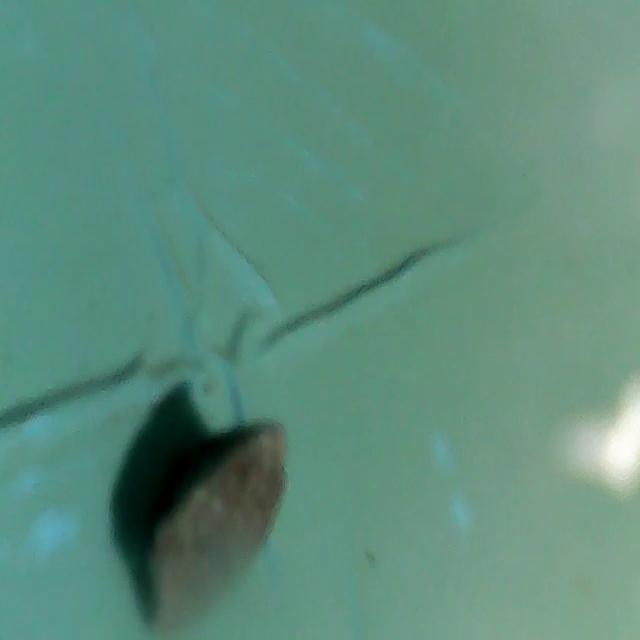rock: (125, 417, 293, 627)
